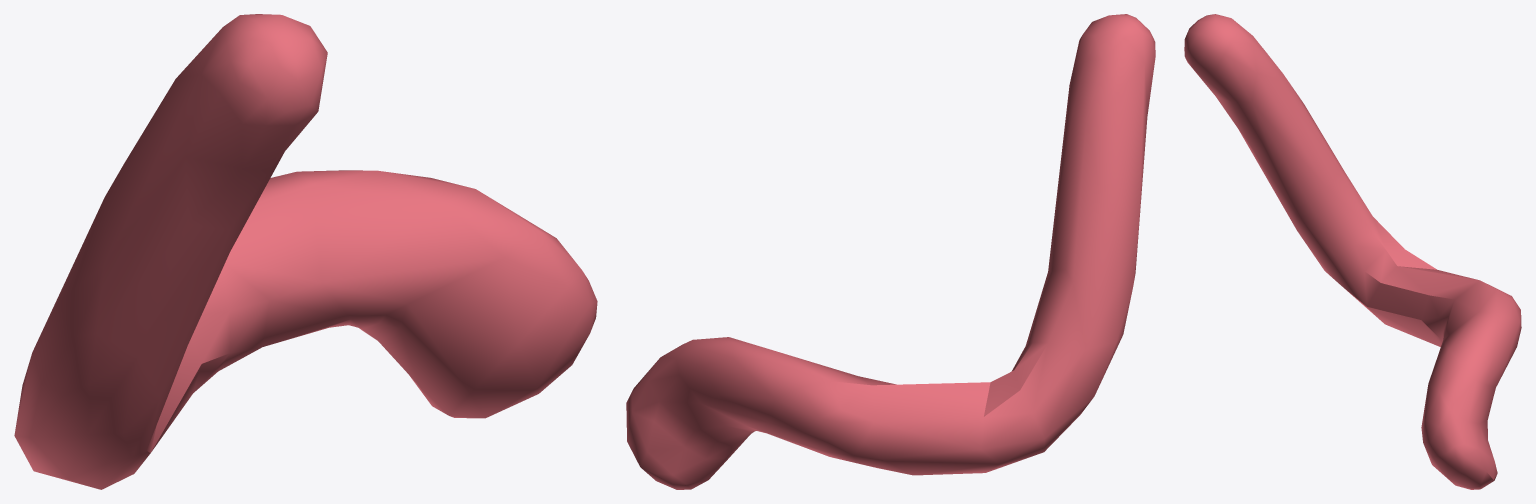
The model's file is fma50030_fj1654m.glb.
3 renders of one model, left to right at view 1: azimuth 30°, elevation 25°; view 2: azimuth 150°, elevation 25°; view 3: azimuth 270°, elevation 25°, orthographic. The views are drawn at different scales.
Visible parts, largest first — view 1: FMA50030_FJ1654M; view 2: FMA50030_FJ1654M; view 3: FMA50030_FJ1654M.
Boxes of the visible parts, x1,y1,x2,y2 form: FMA50030_FJ1654M: (14, 14, 597, 489); FMA50030_FJ1654M: (626, 14, 1155, 489); FMA50030_FJ1654M: (1184, 14, 1521, 489).
Bounding box in the file's own units: 0.0143 × 0.0141 × 0.0122.
